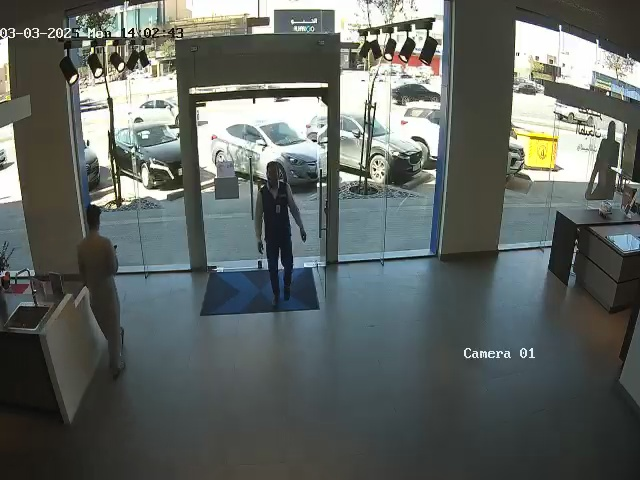employee: (254, 161, 307, 305)
male: (77, 205, 125, 379)
